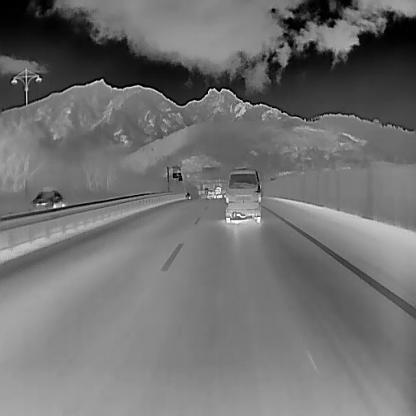car: (225, 167, 261, 222), (30, 188, 66, 210), (206, 188, 214, 198), (214, 188, 222, 198)
